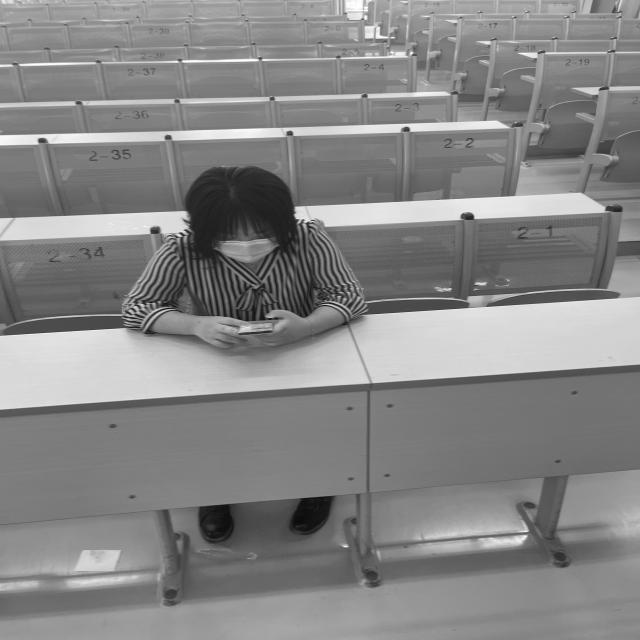phone: (127, 166, 364, 347)
